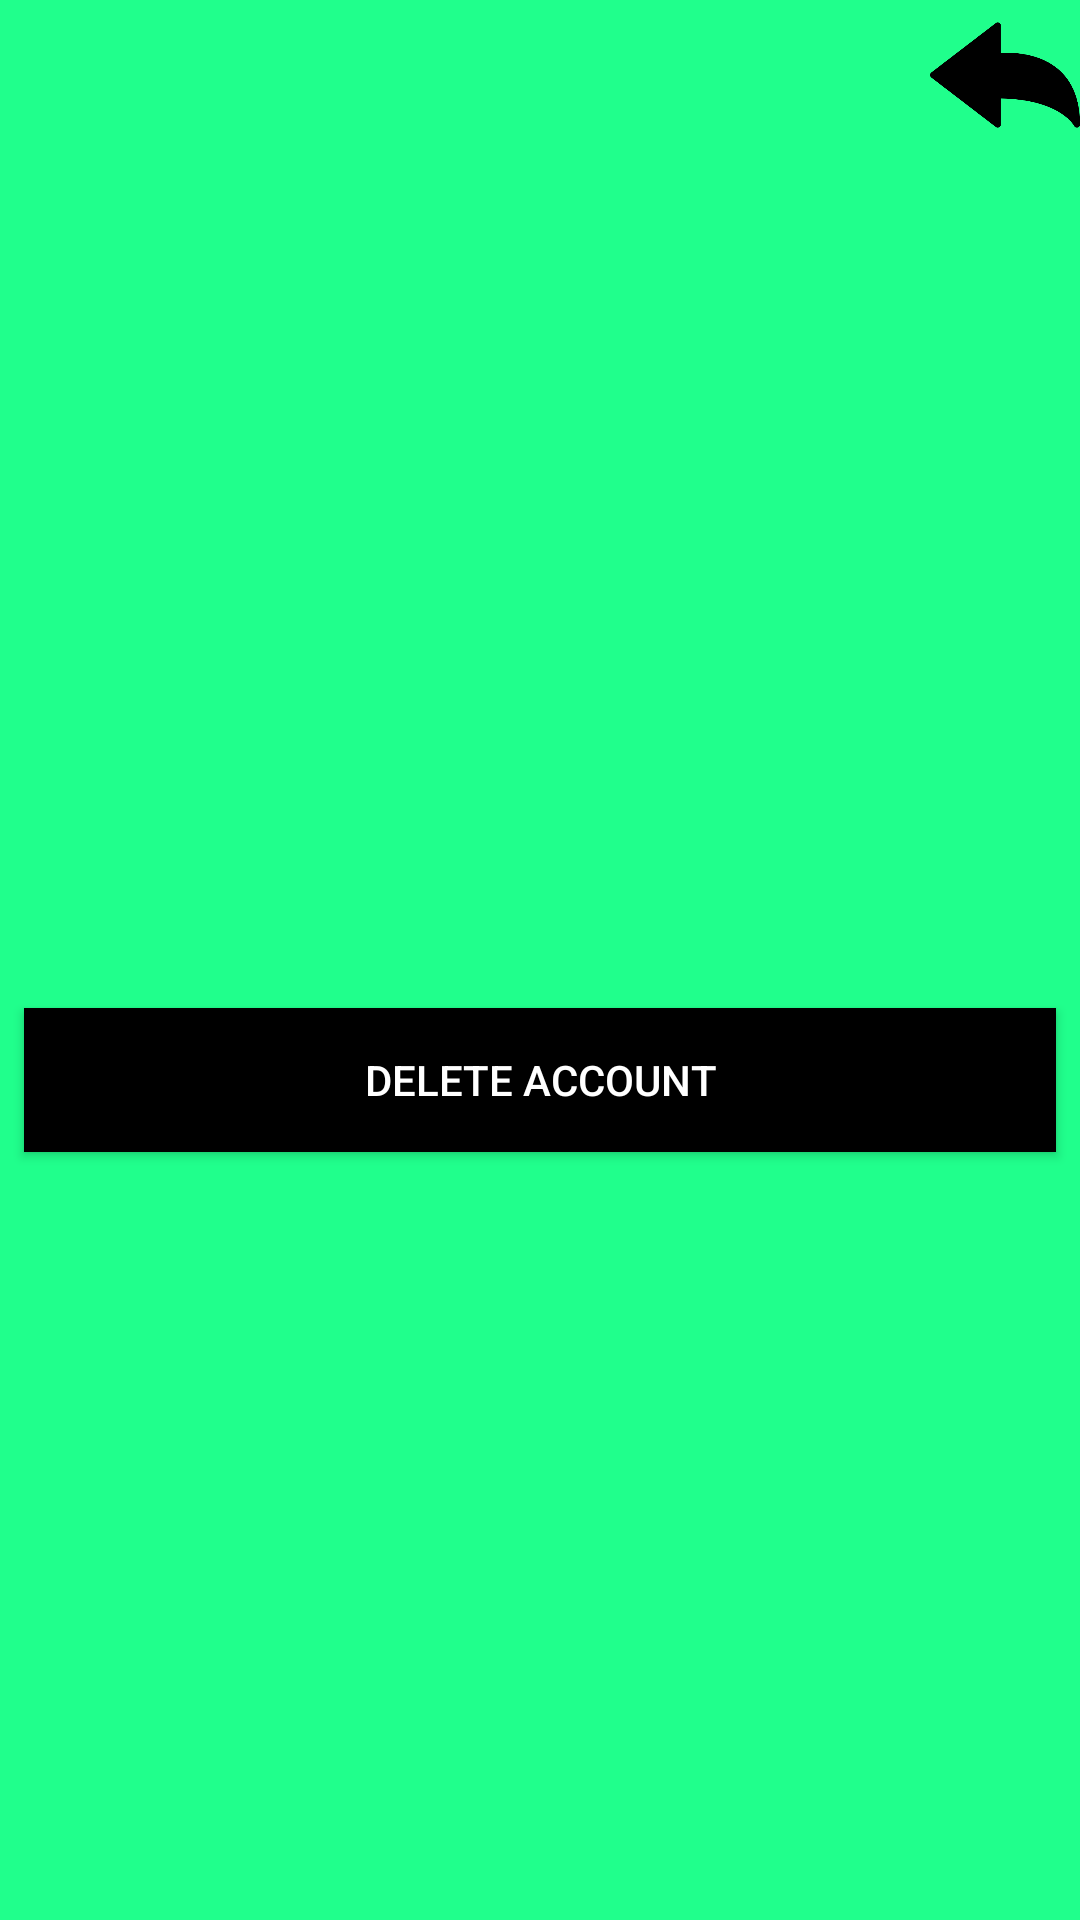

Where to tap for icons on this 1080w x 1920h app screen, as (x=x, y=y):
go back: (x=1005, y=75)
